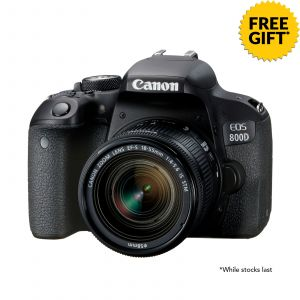kamera: (22, 46, 277, 264)
